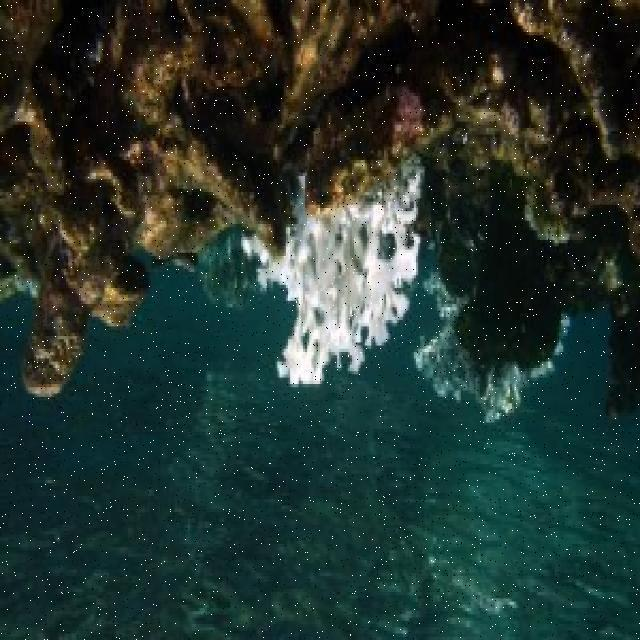Bleached: (248, 162, 433, 392)
Healthy: (1, 1, 245, 393), (251, 1, 640, 179)
